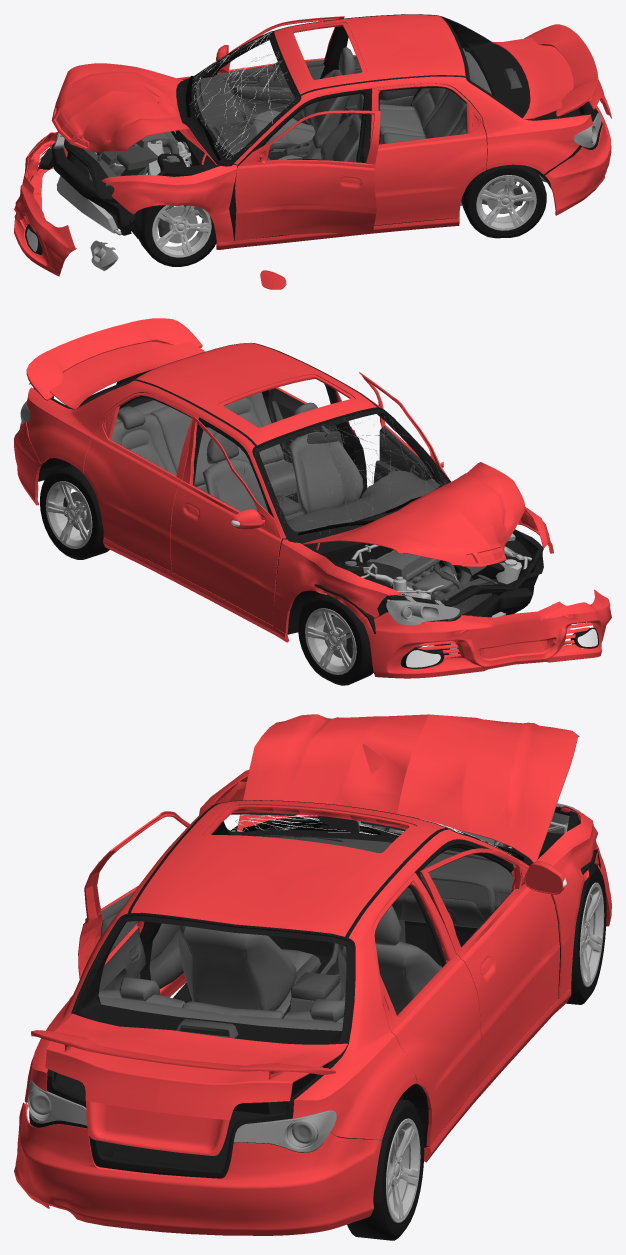
File: wrecked_red_car_02.glb
3 renders of one model, top to bottom at view 1: azimuth 30°, elevation 25°; view 2: azimuth 150°, elevation 25°; view 3: azimuth 270°, elevation 25°, orthographic. The views are drawn at different scales.
Parts seen in each view (by area): view 1: sunburst_spoiler_sport_82, sunburst_bumperbar_F.001_14, sunburst_radiator.001_42, sunburst_engine.001_32, sunburst_tierod_F_56, tire_01a_17x8_25DD_104, sunburst_taillightframe_R_78, sunburst_windshield_dmg_85, brake_disc_solid_64; view 2: sunburst_spoiler_sport_82, sunburst_engine.001_32, sunburst_bumperbar_F.001_14, sunburst_radiator.001_42, sunburst_tierod_F_56, tire_01a_17x8_25DD_104, sunburst_taillightframe_R_78, sunburst_windshield_dmg_85, sunburst_foglightgl_L_10, brake_disc_solid_64; view 3: sunburst_spoiler_sport_82, sunburst_bumperbar_F.001_14, sunburst_engine.001_32, sunburst_radiator.001_42, tire_01a_17x8_25DD_104, sunburst_tierod_F_56, sunburst_taillightframe_R_78, sunburst_wipers_86, sunburst_windshield_dmg_85.
Part boxes in pixels (box(x1,y1,x2,y2)): sunburst_spoiler_sport_82: box(14, 14, 611, 289); sunburst_bumperbar_F.001_14: box(25, 14, 602, 254); sunburst_radiator.001_42: box(73, 56, 521, 217); sunburst_engine.001_32: box(99, 47, 491, 174); sunburst_tierod_F_56: box(56, 131, 546, 257); tire_01a_17x8_25DD_104: box(139, 164, 546, 266); sunburst_taillightframe_R_78: box(53, 113, 601, 270); sunburst_windshield_dmg_85: box(192, 32, 298, 159); brake_disc_solid_64: box(166, 181, 518, 243); sunburst_spoiler_sport_82: box(14, 318, 611, 678); sunburst_engine.001_32: box(111, 392, 455, 594); sunburst_bumperbar_F.001_14: box(27, 343, 598, 668); sunburst_radiator.001_42: box(121, 388, 497, 645); sunburst_tierod_F_56: box(45, 481, 531, 674); tire_01a_17x8_25DD_104: box(40, 464, 534, 685); sunburst_taillightframe_R_78: box(20, 401, 570, 630); sunburst_windshield_dmg_85: box(255, 411, 445, 534); sunburst_foglightgl_L_10: box(406, 629, 597, 667); brake_disc_solid_64: box(70, 491, 348, 658); sunburst_spoiler_sport_82: box(14, 714, 611, 1235); sunburst_bumperbar_F.001_14: box(29, 800, 600, 1178); sunburst_engine.001_32: box(98, 828, 504, 1036); sunburst_radiator.001_42: box(99, 812, 513, 1038); tire_01a_17x8_25DD_104: box(347, 864, 606, 1240); sunburst_tierod_F_56: box(358, 821, 604, 1222); sunburst_taillightframe_R_78: box(27, 803, 581, 1152); sunburst_wipers_86: box(242, 821, 524, 860); sunburst_windshield_dmg_85: box(226, 814, 510, 854).
Size of the model in its own units: 16.15 by 4.84 by 9.21.
